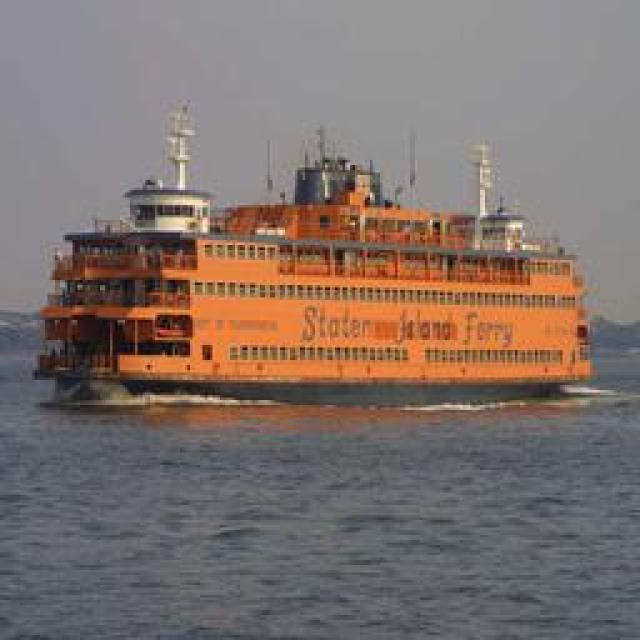CIV_Ship: (39, 118, 592, 412)
